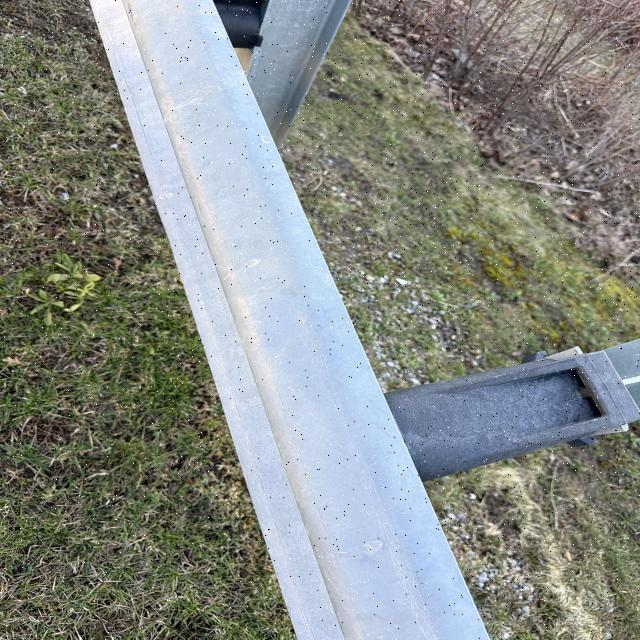Guard rail: (100, 9, 626, 472)
